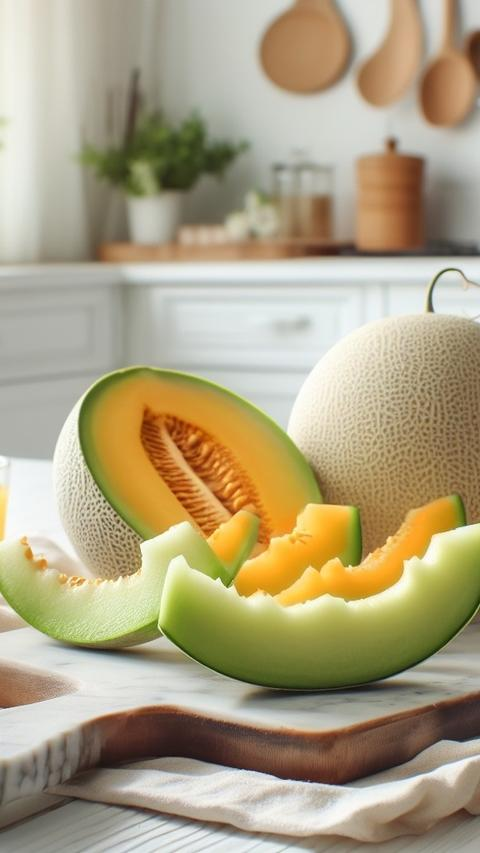Melon Ripe: (56, 368, 322, 578)
